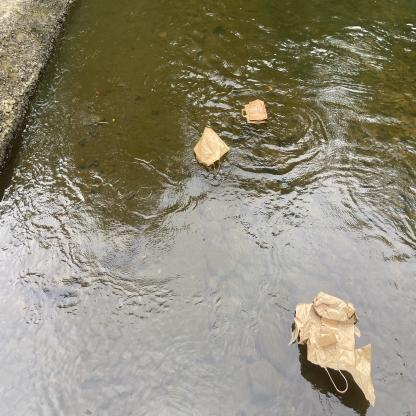trash: (286, 288, 380, 410), (191, 124, 231, 177), (236, 98, 270, 126)
